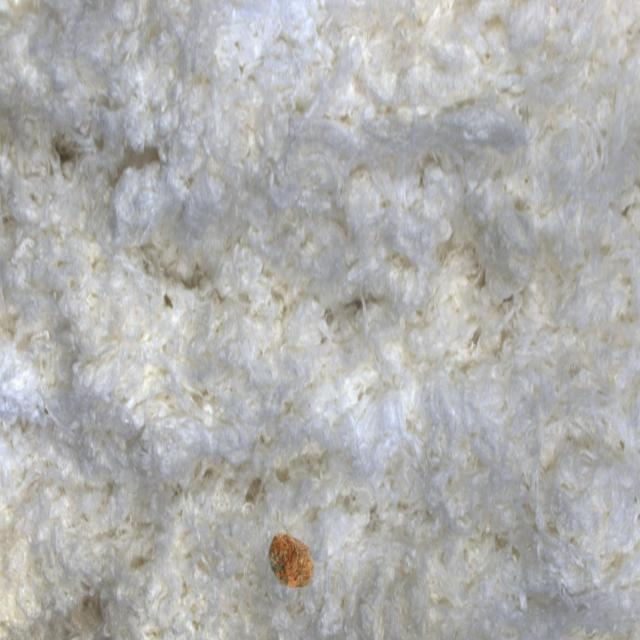dust: (249, 508, 341, 616)
